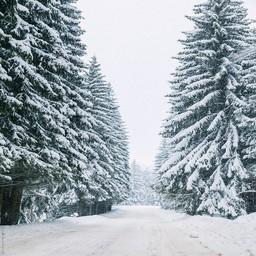Snow: (0, 205, 255, 255)
